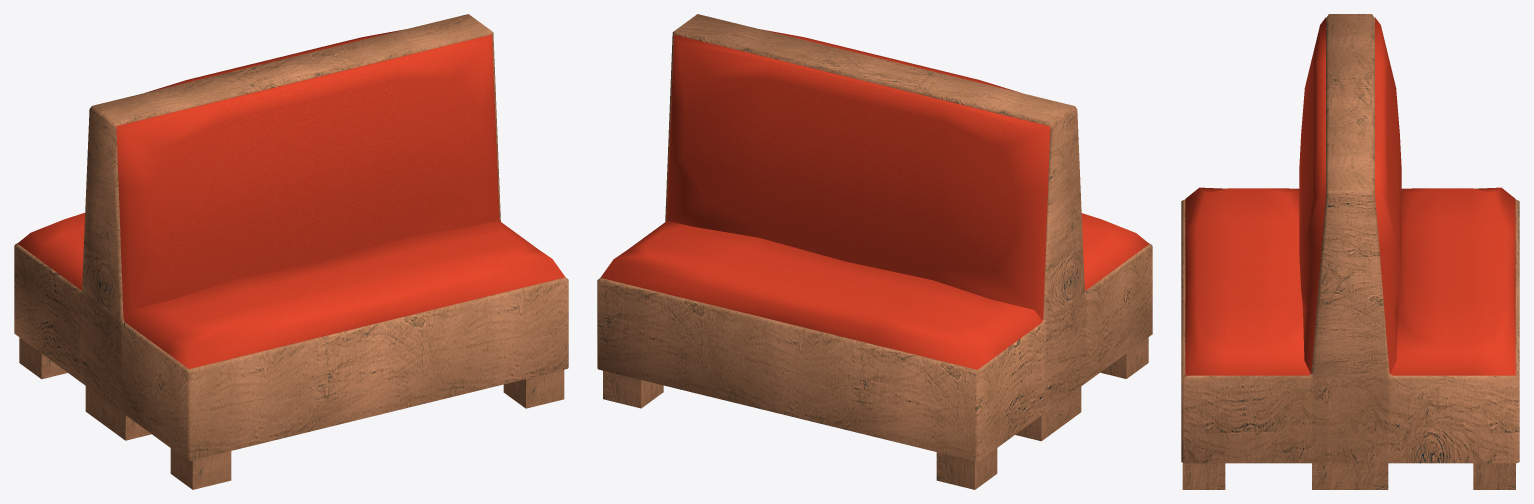
File: DBooth Red.fbx
The picture shows the model from 3 angles, left to right: view 1: azimuth 30°, elevation 25°; view 2: azimuth 150°, elevation 25°; view 3: azimuth 270°, elevation 25°; orthographic projection. The views are drawn at different scales.
Visible parts, largest first — view 1: DBooth Red; view 2: DBooth Red; view 3: DBooth Red.
Part boxes in pixels (bbox=[...]): DBooth Red: bbox=[14, 14, 568, 489]; DBooth Red: bbox=[597, 14, 1152, 489]; DBooth Red: bbox=[1181, 14, 1519, 489].
Size of the model in its own units: 91.28 by 71.5 by 72.96.
